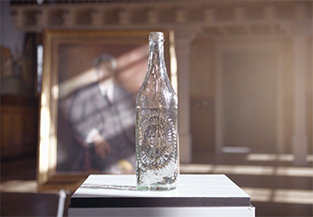glass_bottle: (133, 28, 182, 194)
